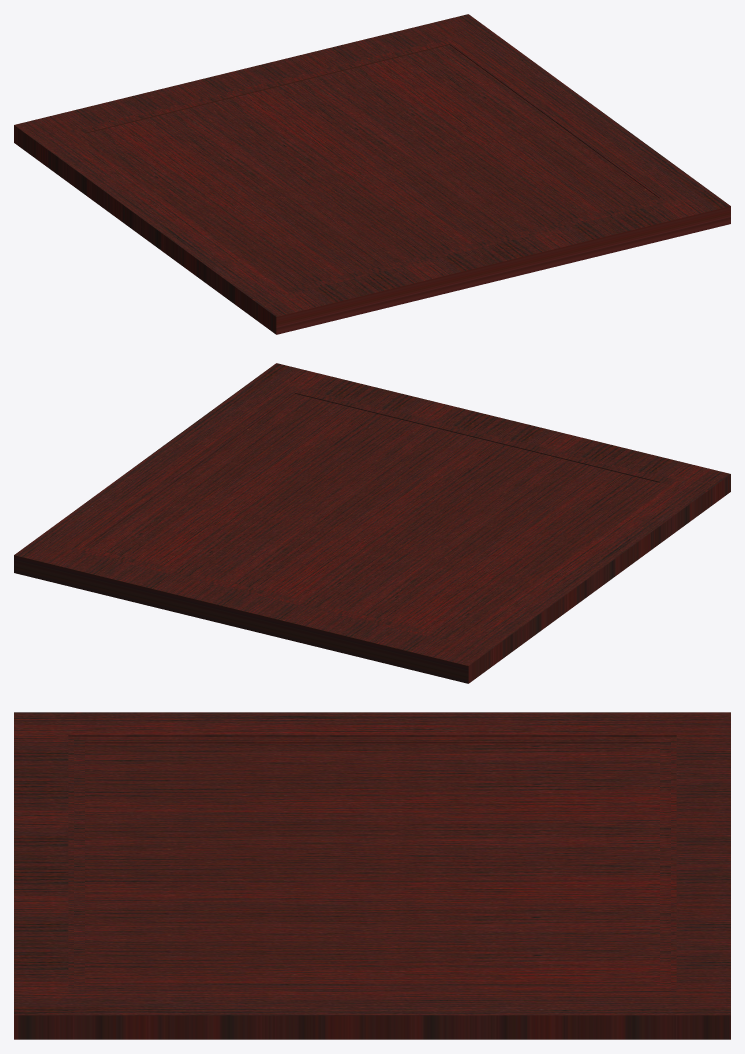
File: Board_Wood_0.glb
3 views of the same model, one above another, from view 1: azimuth 30°, elevation 25°; view 2: azimuth 150°, elevation 25°; view 3: azimuth 270°, elevation 25° (orthographic). The views are drawn at different scales.
Parts seen in each view (by area): view 1: Board_Wood_0; view 2: Board_Wood_0; view 3: Board_Wood_0.
Part boxes in pixels (x1=…): Board_Wood_0: x1=14, y1=14, x2=730, y2=334; Board_Wood_0: x1=14, y1=363, x2=730, y2=683; Board_Wood_0: x1=14, y1=712, x2=730, y2=1039.
Size of the model in its own units: 50.8 by 1.91 by 50.8.
Materials: 1 (1 with a texture image).
